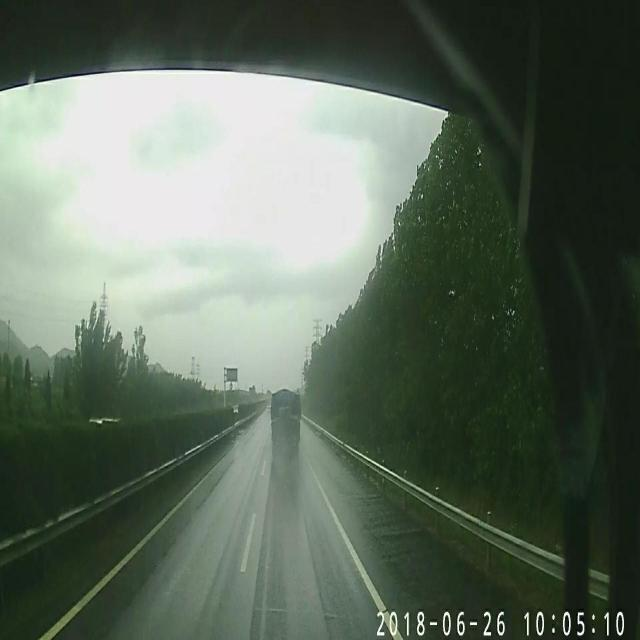car: (270, 386, 302, 451)
